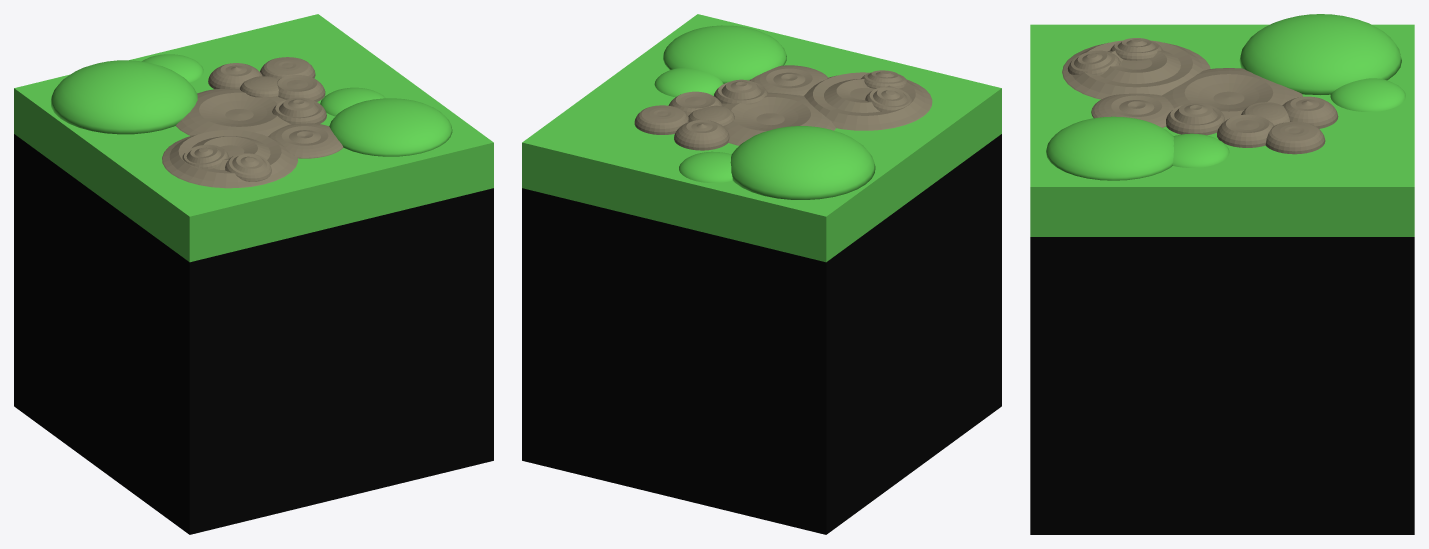
Rendered from Tile-Stone.glb.
3 renders of one model, left to right at view 1: azimuth 30°, elevation 25°; view 2: azimuth 150°, elevation 25°; view 3: azimuth 270°, elevation 25°, orthographic. The views are drawn at different scales.
Visible parts, largest first — view 1: Cube; view 2: Cube; view 3: Cube.
Part boxes in pixels (bbox=[...]): Cube: bbox=[14, 14, 493, 534]; Cube: bbox=[522, 14, 1001, 534]; Cube: bbox=[1030, 14, 1414, 534].
Bounding box in the file's own units: 2 × 2.19 × 2.
